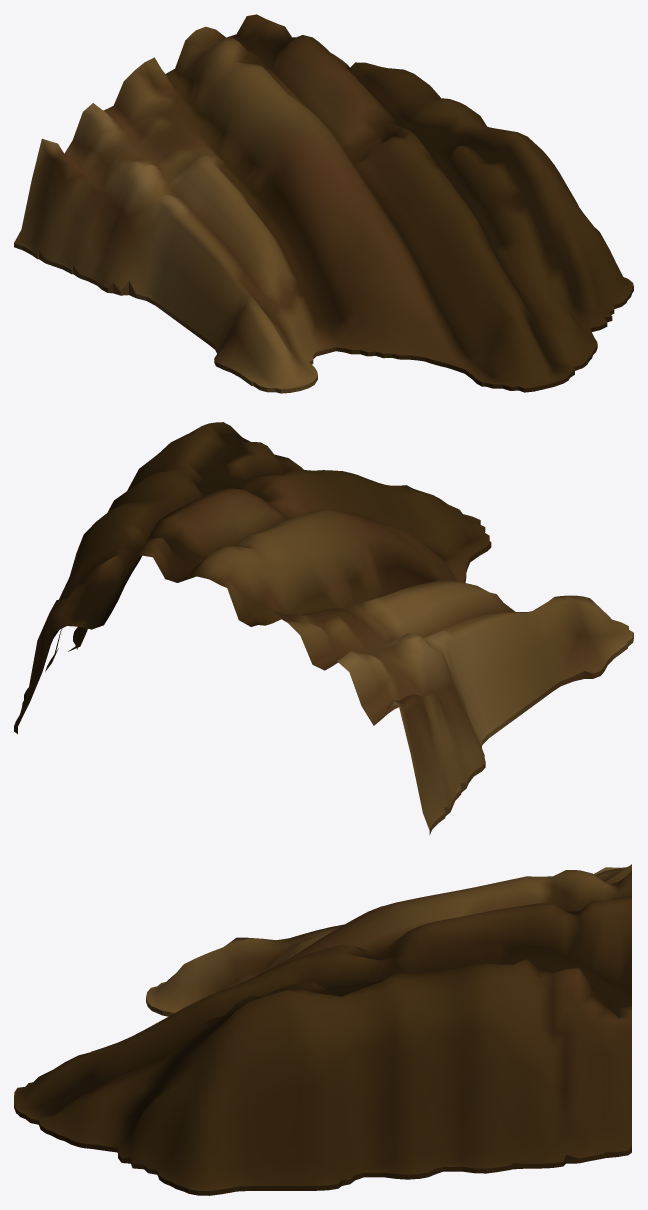
Rendered from arch-leg-right.glb.
3 views of the same model, one above another, from view 1: azimuth 30°, elevation 25°; view 2: azimuth 150°, elevation 25°; view 3: azimuth 270°, elevation 25° (orthographic). The views are drawn at different scales.
Visible parts, largest first — view 1: shapes)-arch-leg-right; view 2: shapes)-arch-leg-right; view 3: shapes)-arch-leg-right.
Boxes of the visible parts, box(x1,y1,x2,y2) form: shapes)-arch-leg-right: box(14, 14, 633, 393); shapes)-arch-leg-right: box(14, 422, 633, 834); shapes)-arch-leg-right: box(14, 864, 631, 1195).
Size of the model in its own units: 3.45 by 1.38 by 3.92.
